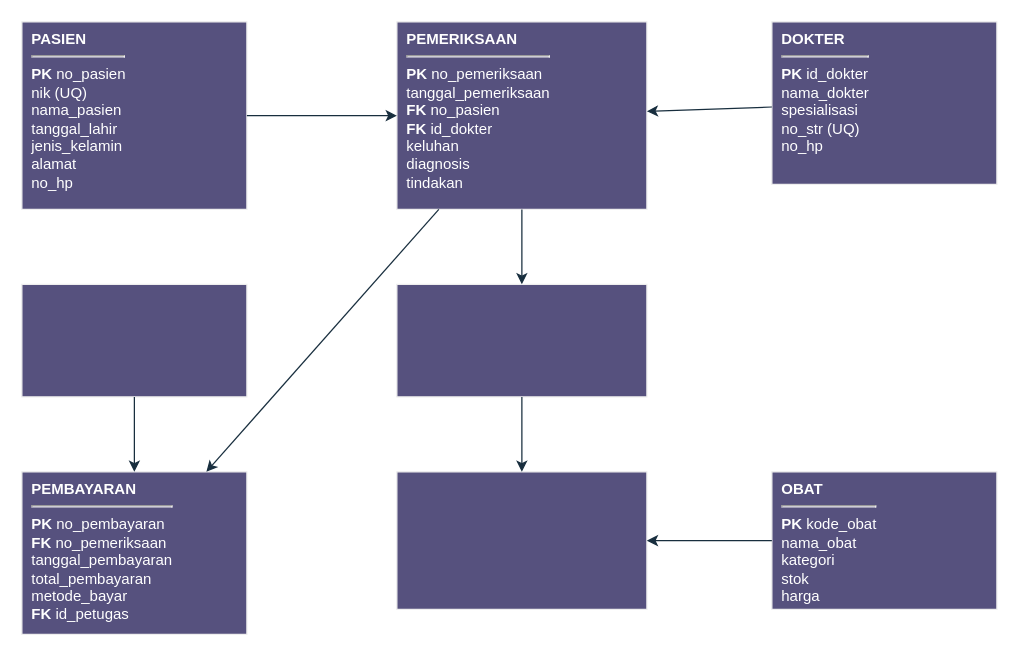
The diagram is 1019 pixels wide and 656 high, and some of its shapes have lost their labels. The shapes that lost their labels are listed below. From the top down, each one's centre as x and y in pixels, then its label:
(x=134, y=340): PETUGAS PK id_petugas nama_petugas bagian
(x=521, y=340): RESEP PK no_resep FK no_pemeriksaan tanggal_resep
(x=521, y=540): DETAIL_RESEP PK, FK no_resep PK, FK kode_obat jumlah aturan_pakai
